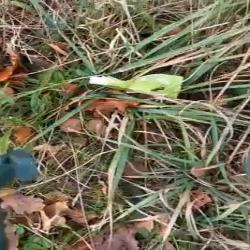Restaffald: (89, 73, 184, 99)
